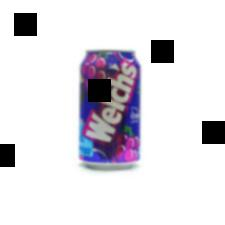welchs_grape: (79, 45, 144, 168)
